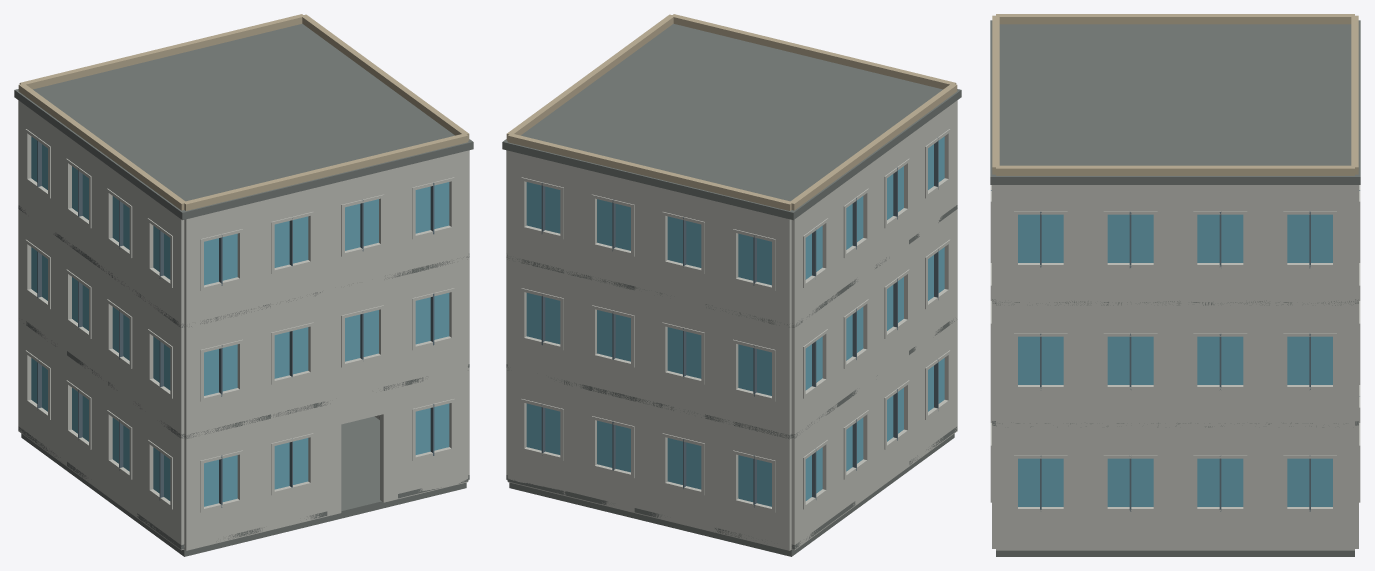
File: architecture-office.lod0.glb
3 renders of one model, left to right at view 1: azimuth 30°, elevation 25°; view 2: azimuth 150°, elevation 25°; view 3: azimuth 270°, elevation 25°, orthographic. The views are drawn at different scales.
Parts seen in each view (by area): view 1: architecture-office__body; view 2: architecture-office__body; view 3: architecture-office__body.
Part boxes in pixels (left/top/right/bottom): architecture-office__body: left=14, top=14, right=473, bottom=556; architecture-office__body: left=502, top=14, right=961, bottom=556; architecture-office__body: left=990, top=14, right=1360, bottom=556.
Bounding box in the file's own units: 8.25 × 9.58 × 8.25.
